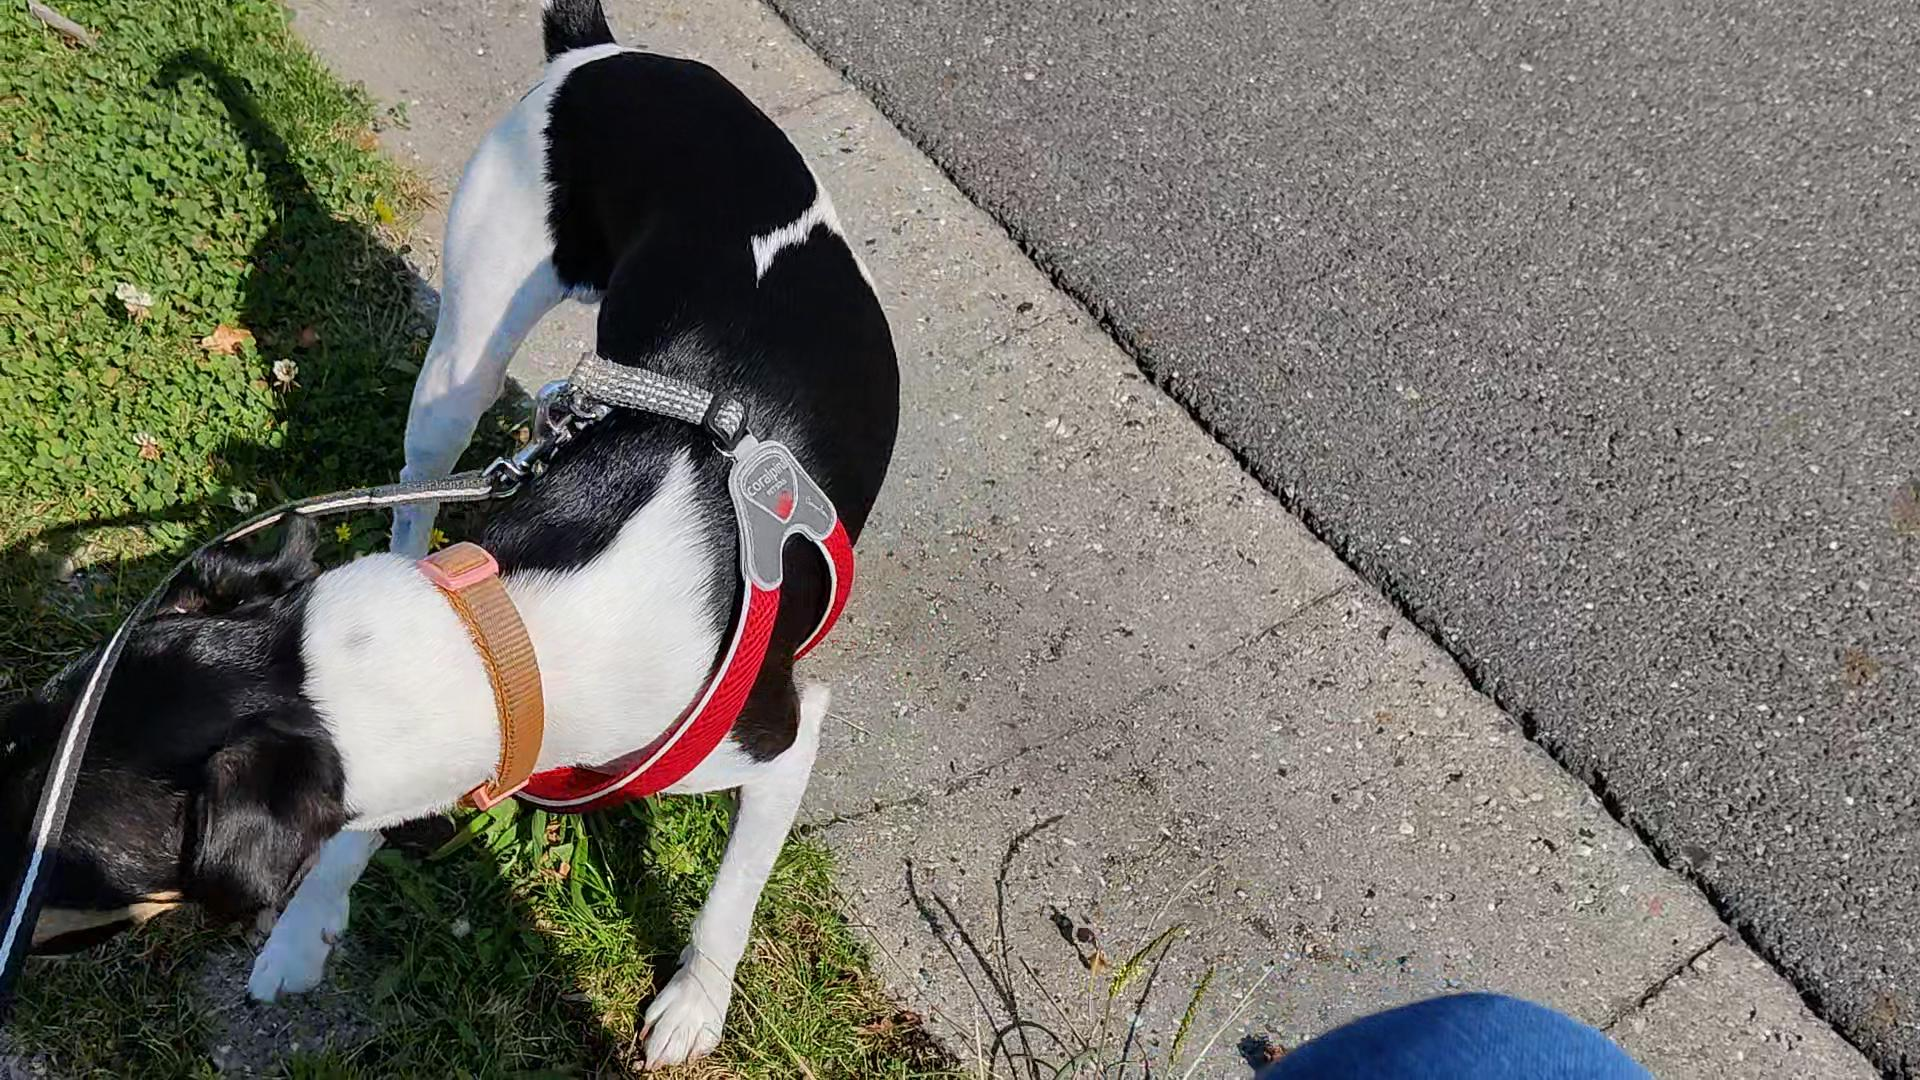Dog: (0, 0, 905, 1079)
